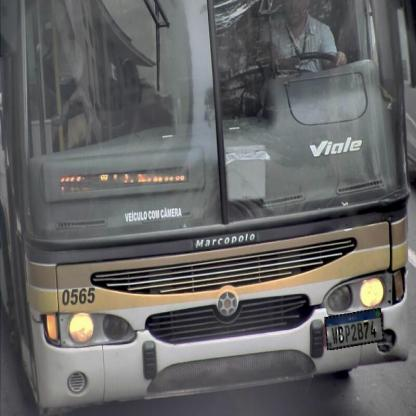PlacaM: (324, 308, 384, 350)
